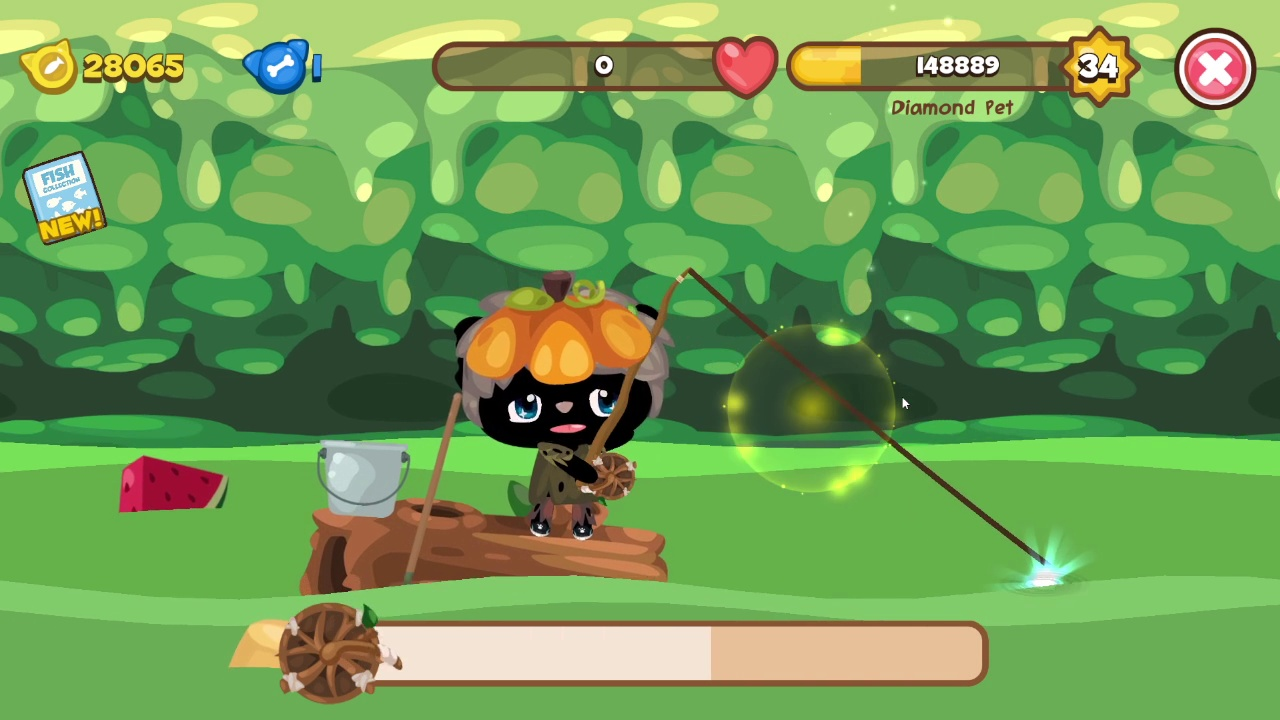point: (725, 323, 900, 493)
